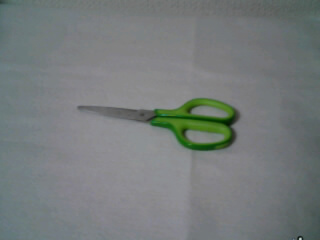003_classes: (70, 90, 235, 160)
